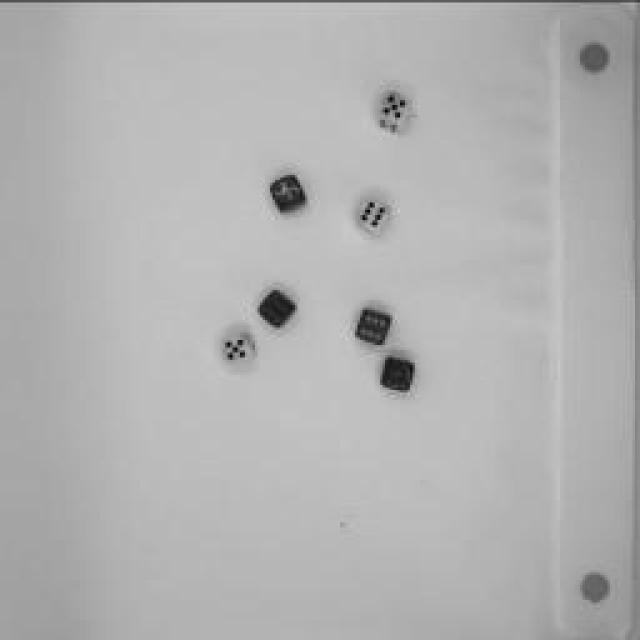dice_1: (375, 351, 420, 394)
dice_4: (266, 168, 306, 218)
dice_5: (369, 86, 416, 134), (220, 330, 260, 368)
dice_6: (348, 191, 394, 239), (255, 288, 297, 332), (350, 306, 395, 346)
